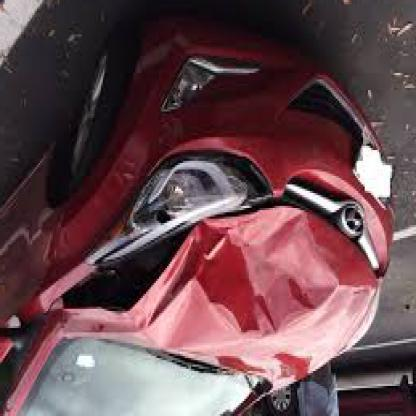dent: (189, 218, 348, 330), (103, 278, 176, 344)
